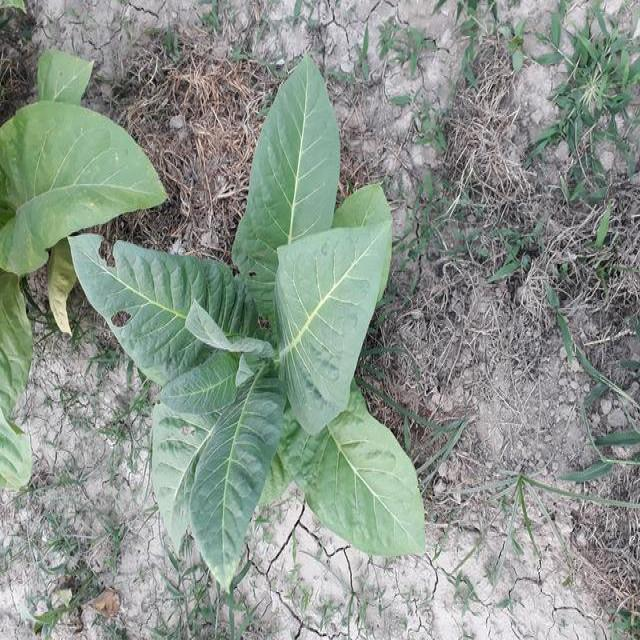crop: (63, 41, 433, 601)
